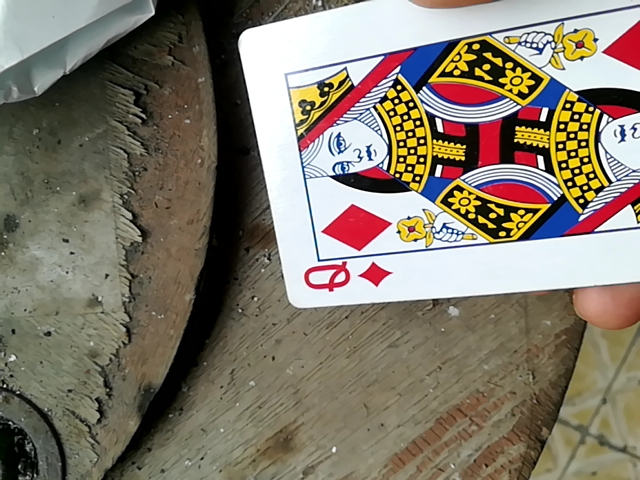fk q: (233, 0, 637, 314)
